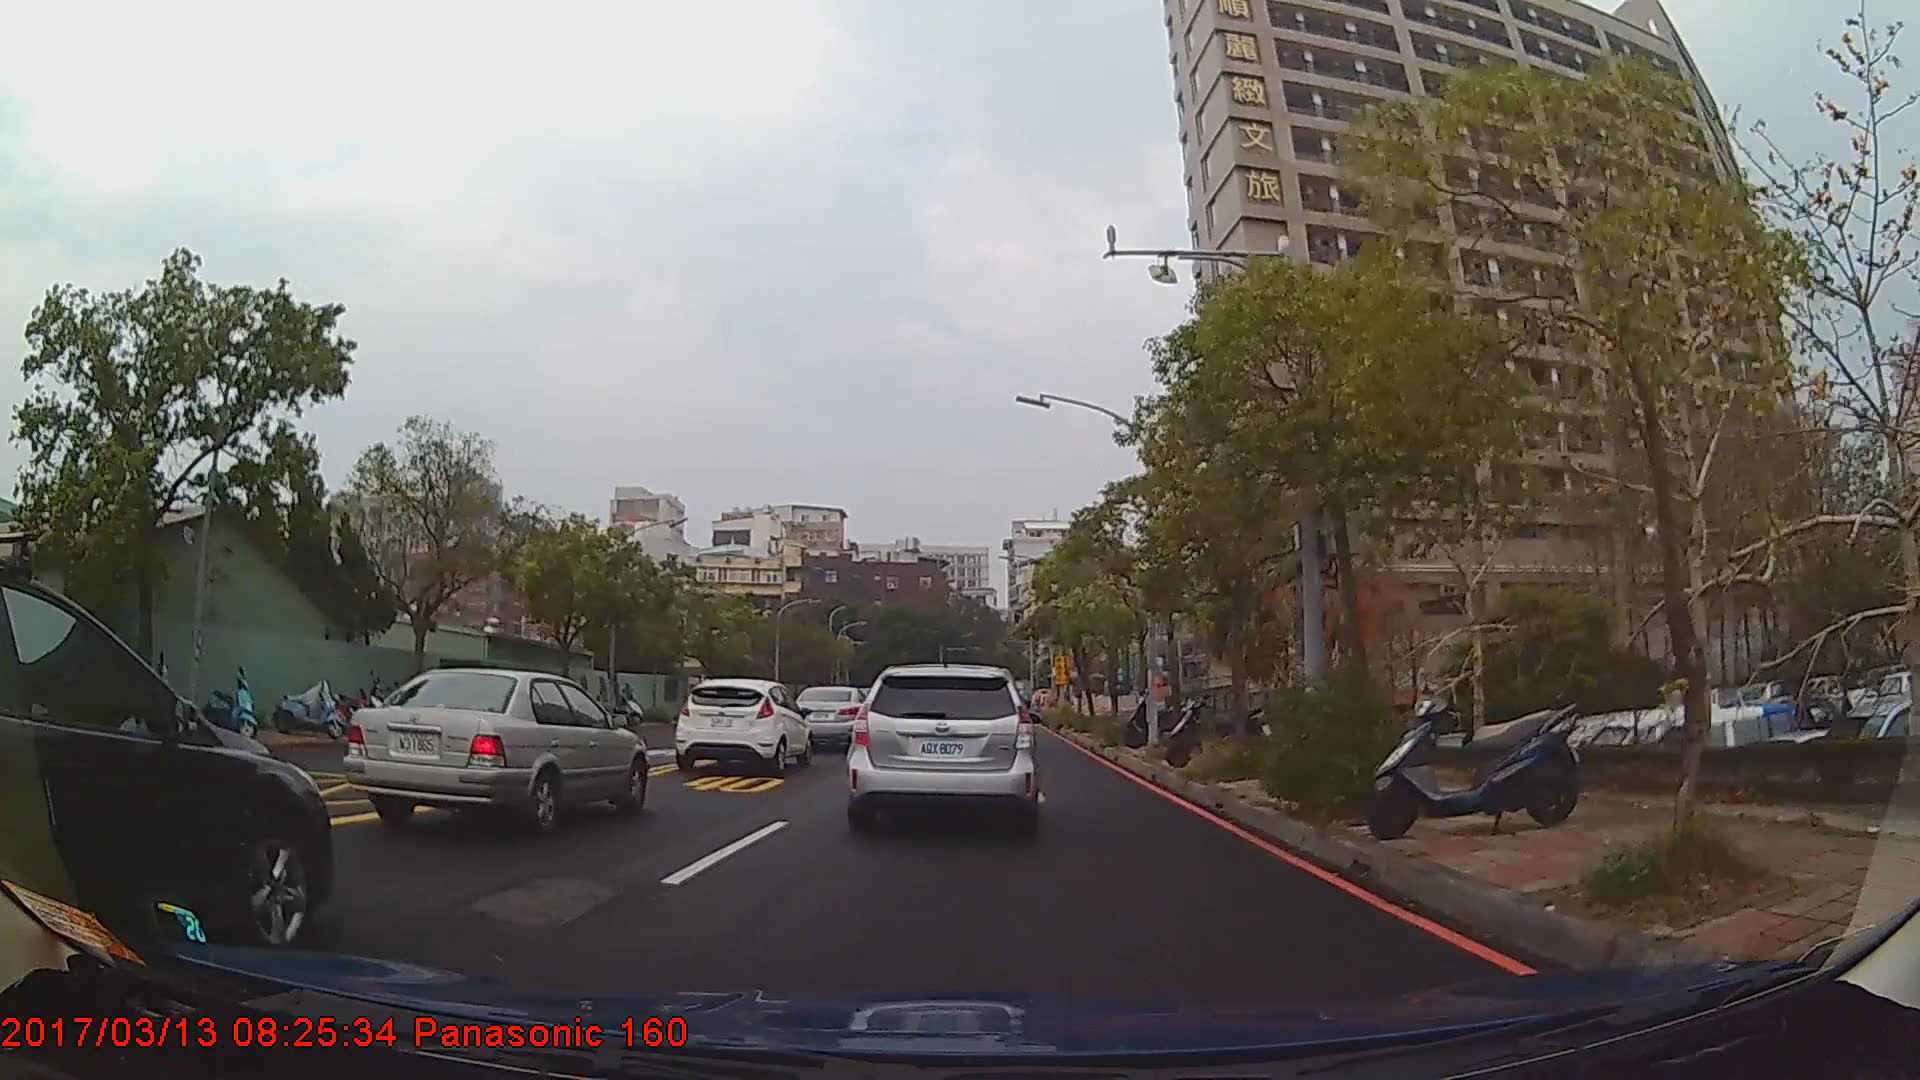vehicle: (0, 566, 331, 973), (342, 666, 647, 836), (844, 662, 1035, 827), (673, 676, 810, 771), (790, 684, 873, 746)
